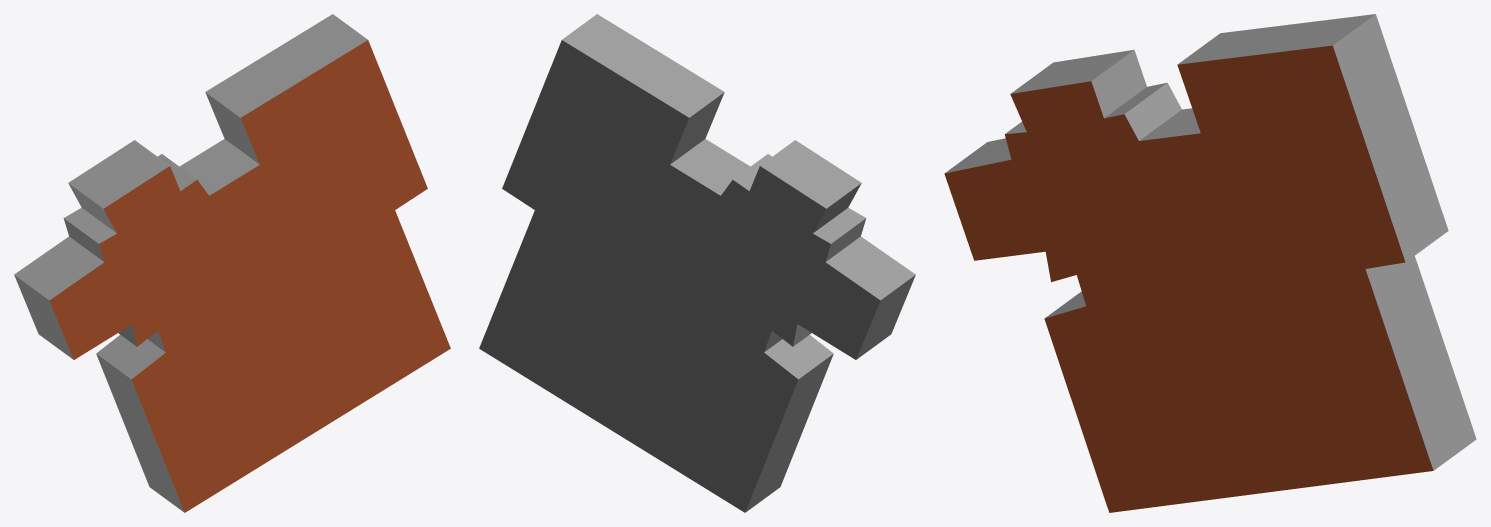
Rendered from construction_2045_assumed_A_Casa_h6m.obj.
3 renders of one model, left to right at view 1: azimuth 30°, elevation 25°; view 2: azimuth 150°, elevation 25°; view 3: azimuth 330°, elevation 25°, orthographic. The views are drawn at different scales.
Parts seen in each view (by area): view 1: construction_2045_assumed_A_Casa; view 2: construction_2045_assumed_A_Casa; view 3: construction_2045_assumed_A_Casa.
Part boxes in pixels (x1,y1,x2,y2): construction_2045_assumed_A_Casa: (14,14,450,512); construction_2045_assumed_A_Casa: (479,14,915,512); construction_2045_assumed_A_Casa: (944,14,1476,512).
Bounding box in the file's own units: 39.32 × 40.08 × 6.
